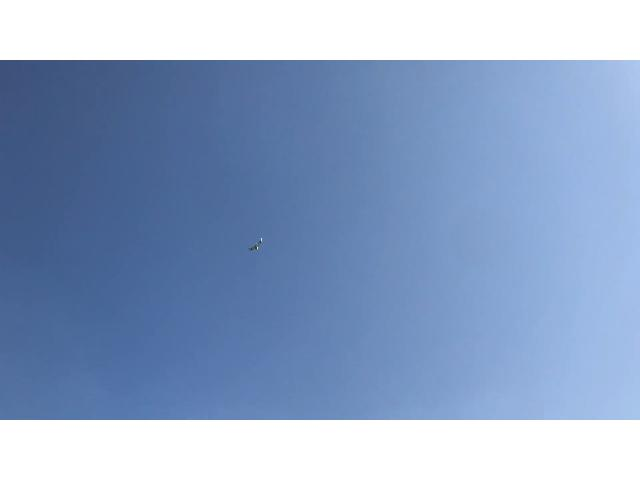Anti-Drone: (240, 232, 280, 256)
